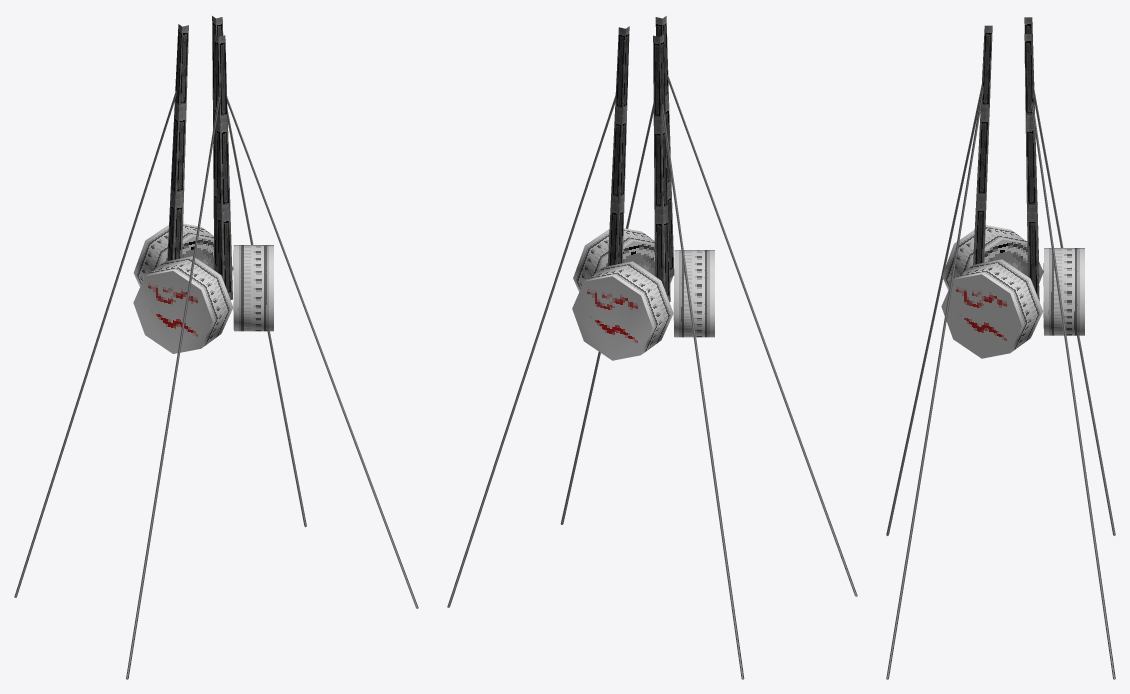
The model's file is Mis4_Booster_Station_02.glb.
3 renders of one model, left to right at view 1: azimuth 30°, elevation 25°; view 2: azimuth 150°, elevation 25°; view 3: azimuth 270°, elevation 25°, orthographic.
Visible parts, largest first — view 1: MIS4_BOOSTER_STATION_02; view 2: MIS4_BOOSTER_STATION_02; view 3: MIS4_BOOSTER_STATION_02.
Part boxes in pixels (x1,y1,x2,y2): MIS4_BOOSTER_STATION_02: (14,16,418,679); MIS4_BOOSTER_STATION_02: (447,16,857,679); MIS4_BOOSTER_STATION_02: (886,17,1115,679).
Bounding box in the file's own units: 5.88 × 11.02 × 3.94.
Materials: 5 (5 with a texture image).
